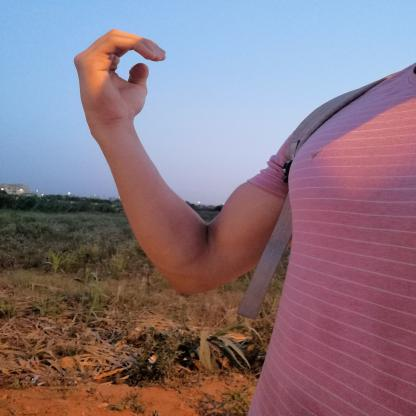JEEM: (61, 21, 174, 138)
